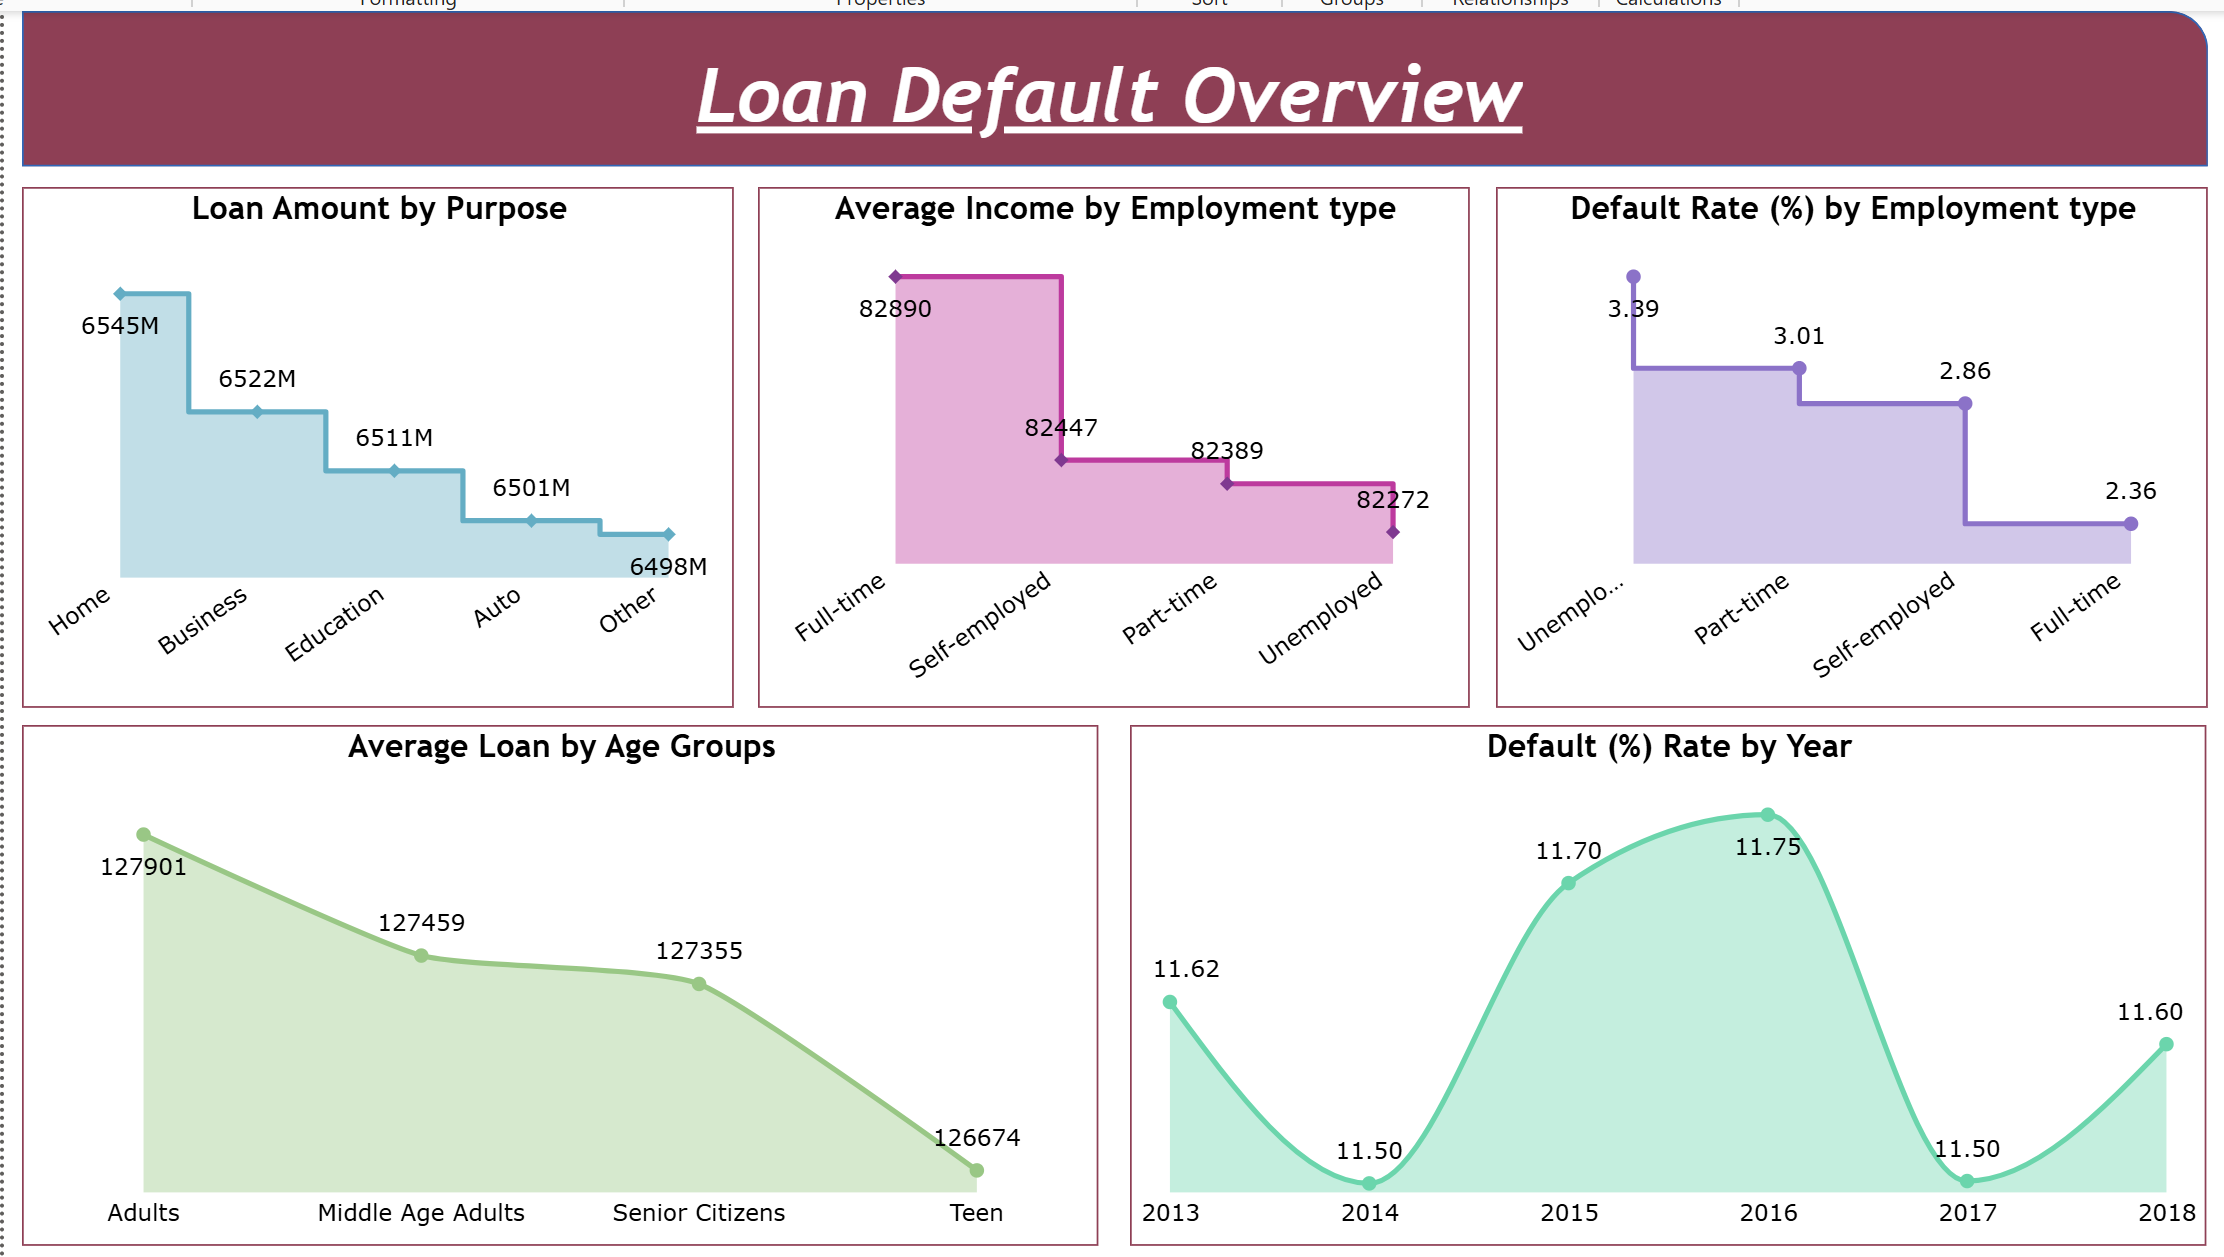

This screenshot's page, from the dashboard's own definition file:
{"tool":"powerbi","page":{"name":"Loan_Default Overview","canvas":[1280,720],"ordinal":0},"visuals":[{"type":"shape","box":[10.4,0,1259.2,89.6],"z":0},{"type":"lineChart","title":"Loan Amount by Purpose","fields":{"Category":["Loan_default.LoanPurpose"],"Y":["Measures Table1.Loan Amount by Purpose"]},"box":[10,101.7,410,300],"z":1000},{"type":"lineChart","title":"Average Income by Employment type","fields":{"Category":["Loan_default.EmploymentType"],"Y":["Measures Table1.Average Income by Employment type"]},"box":[434.6,101.7,410,300],"z":2000},{"type":"lineChart","title":"Default Rate (%) by Employment type","fields":{"Category":["Loan_default.EmploymentType"],"Y":["Measures Table1.Default Rate by Employment type"]},"box":[859.2,101.7,410,300],"z":3000},{"type":"lineChart","title":"Average Loan by Age Groups","fields":{"Category":["Loan_default.Age Groups"],"Y":["Measures Table1.Average Loan by Age Groups"]},"box":[10,410.8,620,300.2],"z":4000},{"type":"lineChart","title":"Default (%) Rate by Year","fields":{"Category":["Loan_default.Year"],"Y":["Measures Table1.Default rate by Year"]},"box":[648.2,410.8,620,300.2],"z":5000}]}

Visuals, with their boxes on the page's 1280x720 design canvas (x1, y1, x2, y2). These are canvas units, not pixel positions in the 2224x1257 screenshot, which may show the page scaled, cropped or inside an application window:
shape: crop(10, 0, 1270, 90)
"Loan Amount by Purpose" lineChart: crop(10, 102, 420, 402)
"Average Income by Employment type" lineChart: crop(435, 102, 845, 402)
"Default Rate (%) by Employment type" lineChart: crop(859, 102, 1269, 402)
"Average Loan by Age Groups" lineChart: crop(10, 411, 630, 711)
"Default (%) Rate by Year" lineChart: crop(648, 411, 1268, 711)
